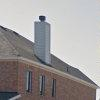Chimney: (25, 10, 56, 63)
